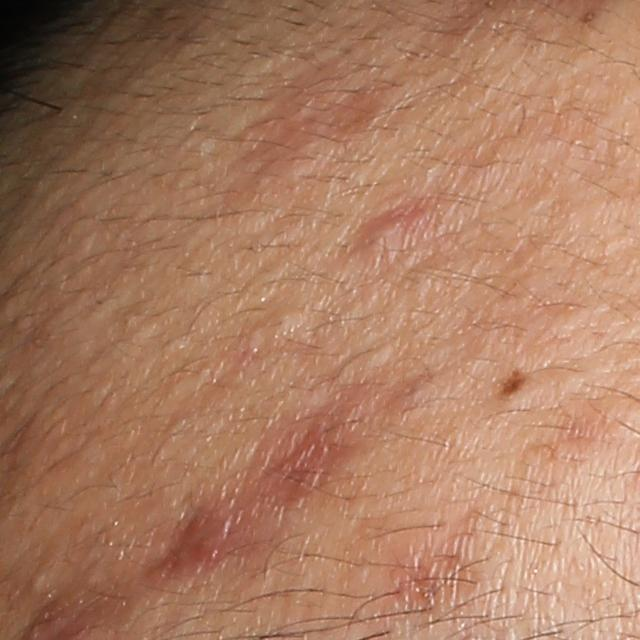atrophic_scar: (216, 57, 384, 220), (246, 384, 375, 532), (141, 498, 238, 594)
comedo: (261, 310, 309, 339)
nevus: (489, 367, 527, 401)
papule: (348, 201, 441, 280)
